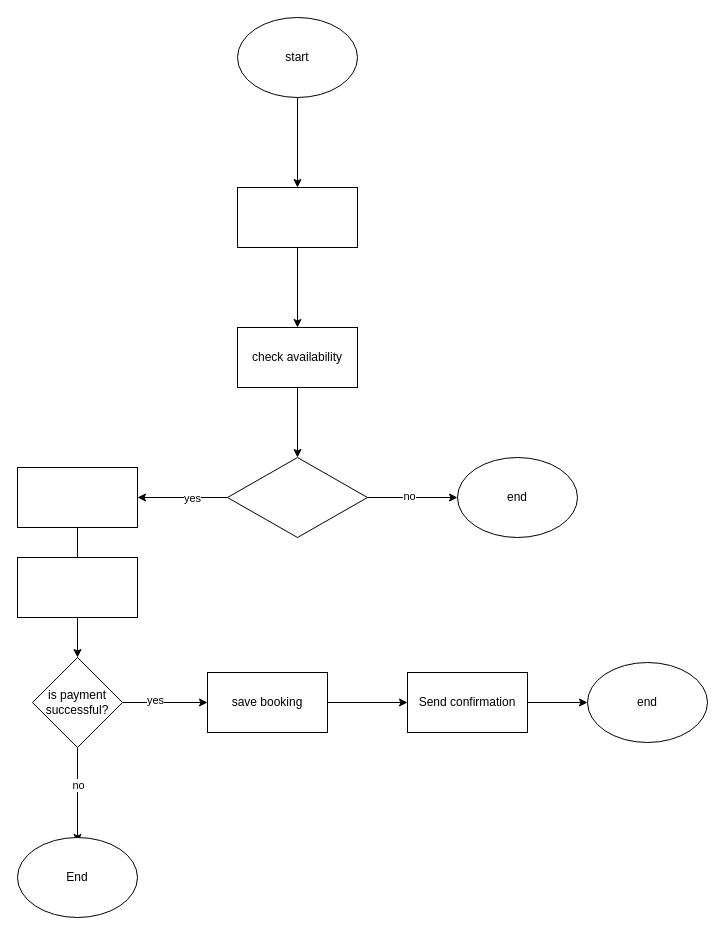
Some shapes in this 725 by 935 pixel diagram are drawn without their labels. Each missing label, with the box of its shape:
confirm booking: (16, 466, 138, 528)
Is property Avaliable: (226, 456, 368, 538)
Process Payment: (16, 556, 138, 618)
Select Property: (236, 186, 358, 248)
